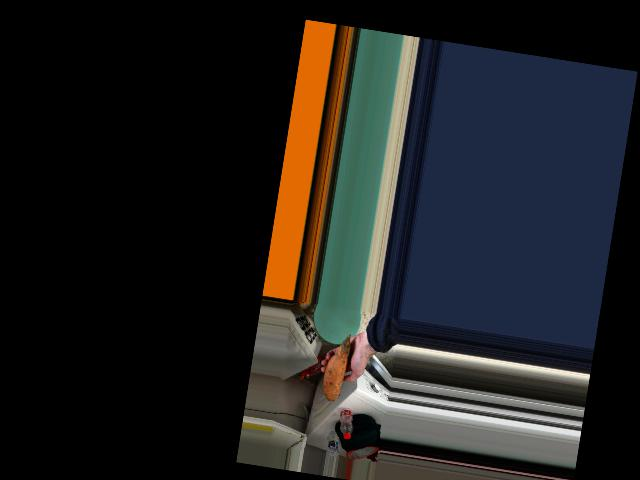sweet_potato: (318, 324, 349, 399)
